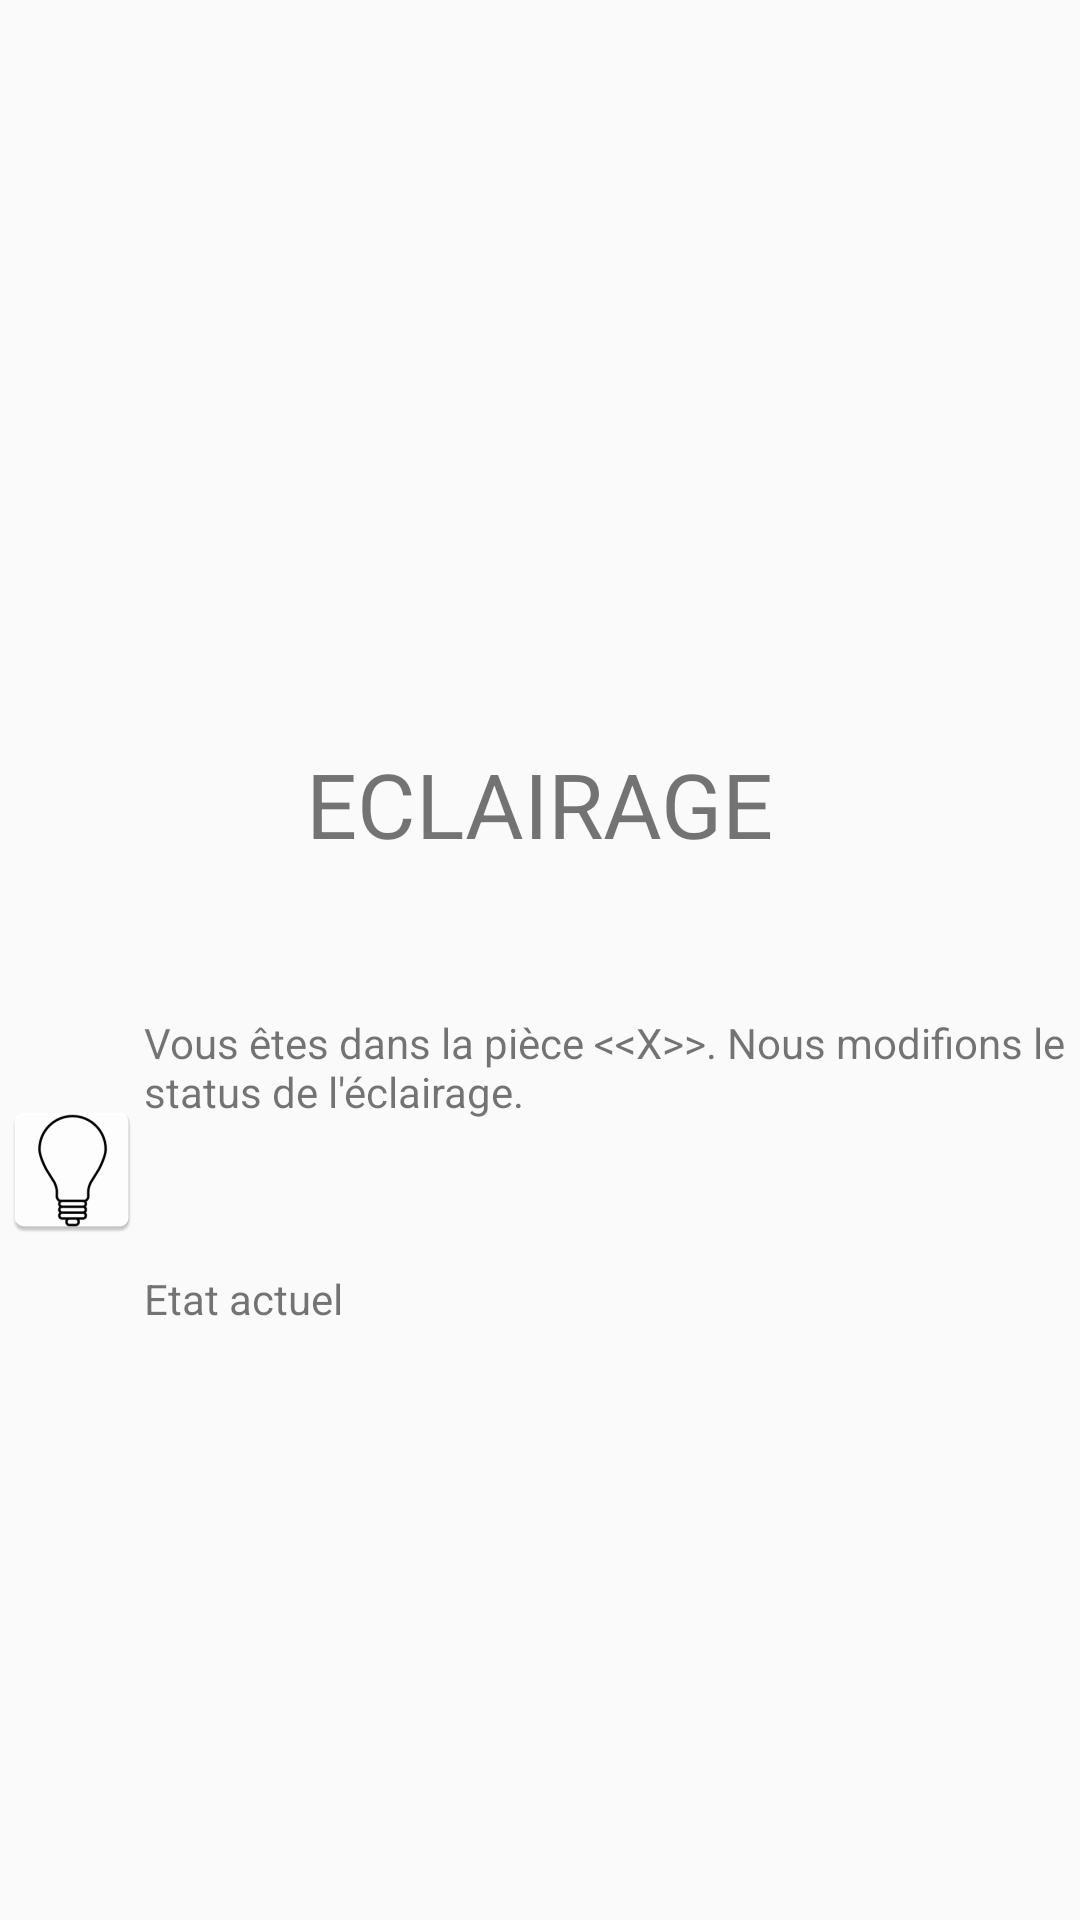

Locate icon controls on the screen. Image size 1080w x 1920h, boxes as [x1=x1, y1=y1, x2=x2, y2=y2].
bulb: [x1=15, y1=1114, x2=130, y2=1231]
